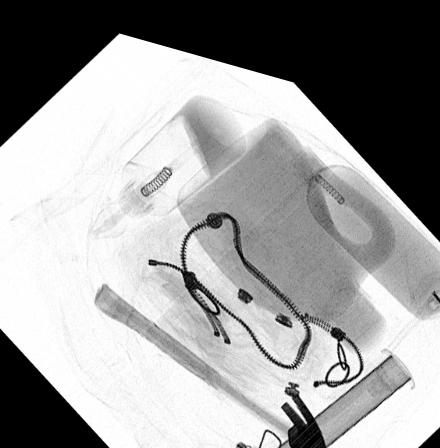Hammer: (92, 276, 327, 448)
